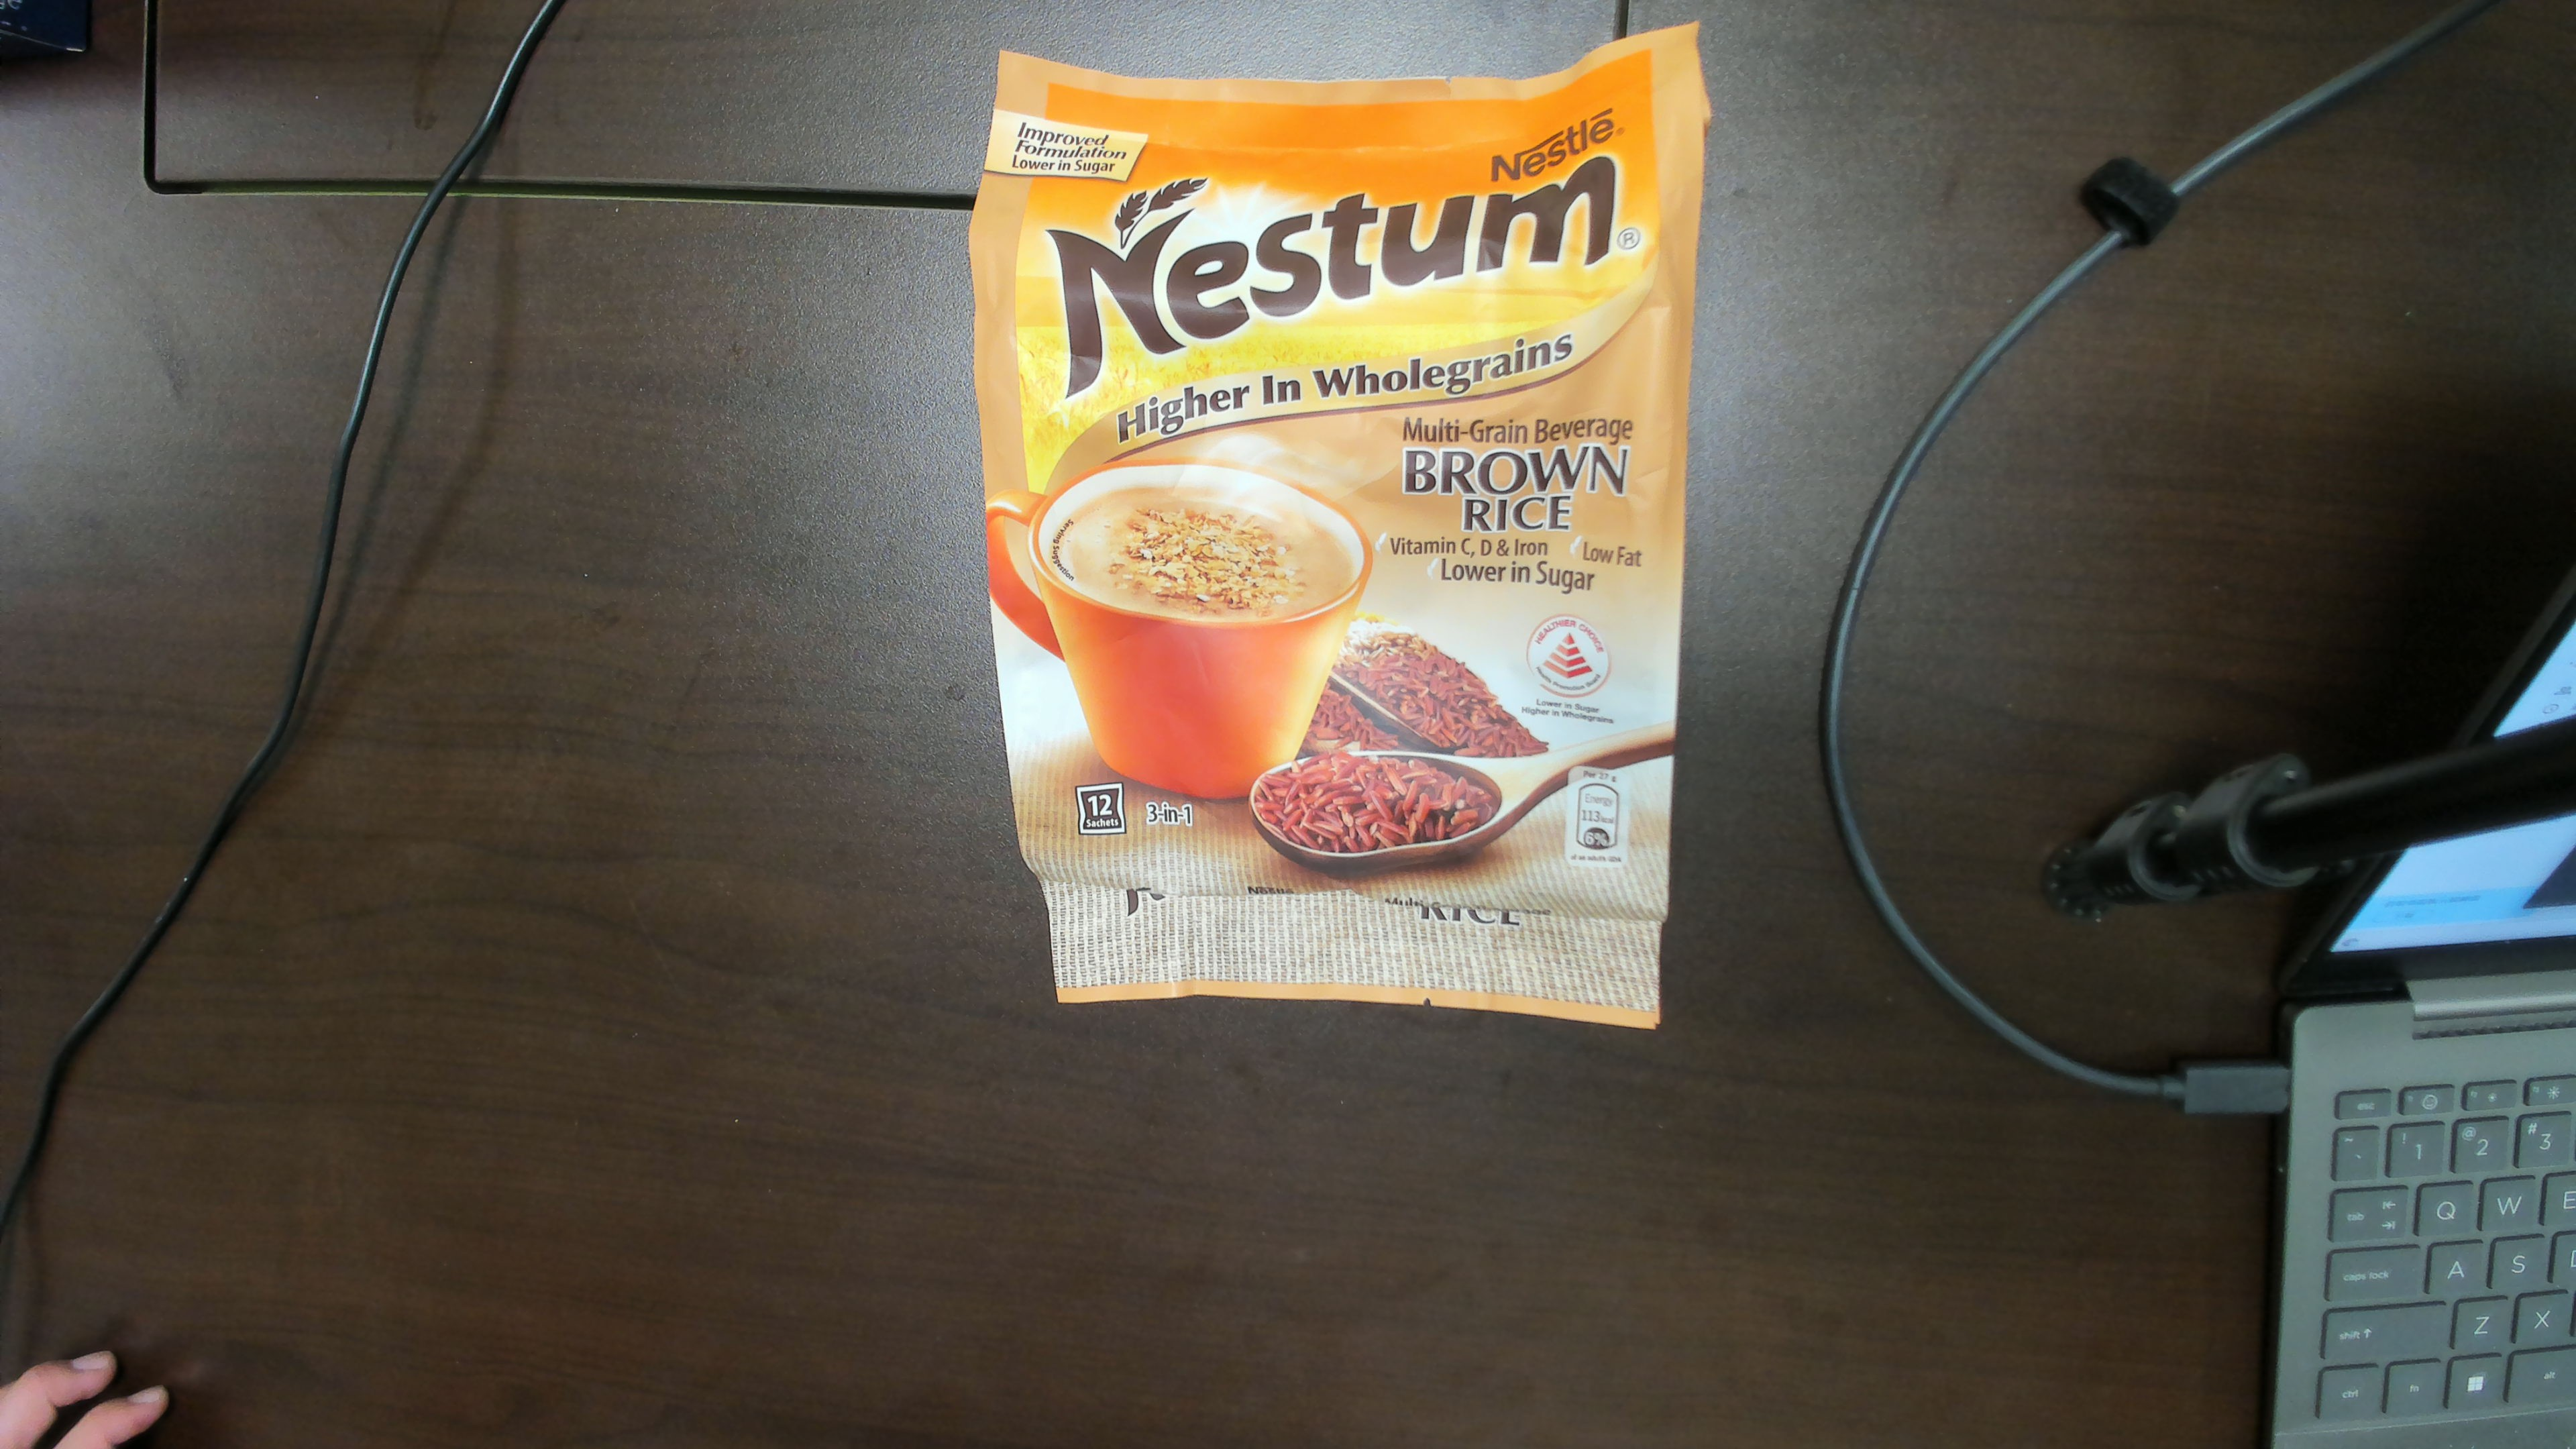CerealBeverage-powder_300-399g_NonHalal_Healthy: (1046, 111, 1640, 863)
